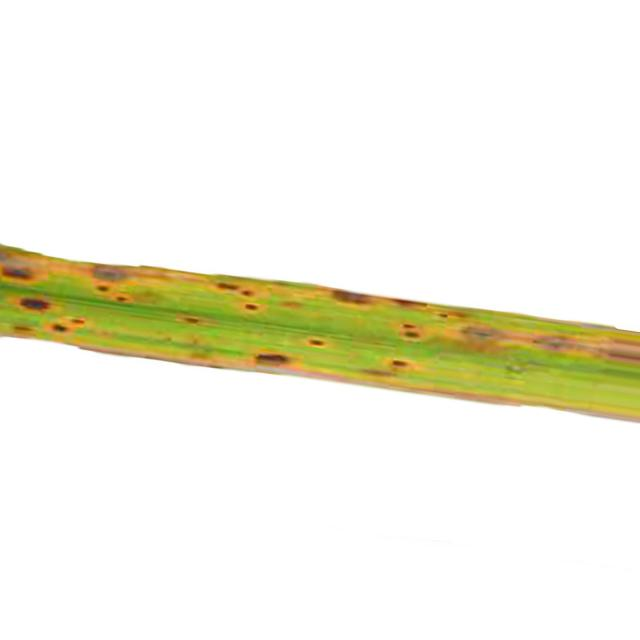Brown_Spot: (460, 320, 520, 349), (532, 325, 581, 352), (2, 255, 40, 280), (94, 266, 139, 281), (332, 290, 371, 304), (258, 349, 289, 365), (399, 322, 421, 339), (20, 298, 49, 310), (392, 299, 428, 308), (12, 325, 35, 336), (439, 310, 469, 318), (306, 339, 331, 348), (216, 282, 239, 289), (185, 316, 202, 325), (244, 302, 260, 311), (392, 360, 409, 368), (52, 324, 68, 332), (116, 296, 134, 303), (71, 318, 85, 325), (241, 290, 254, 296), (98, 285, 109, 291)
